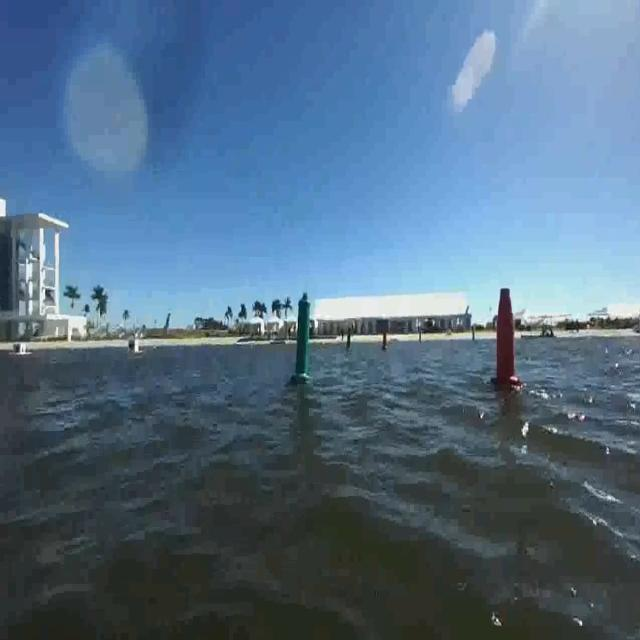green-column-buoy: (292, 294, 315, 386)
red-column-buoy: (492, 283, 522, 392)
